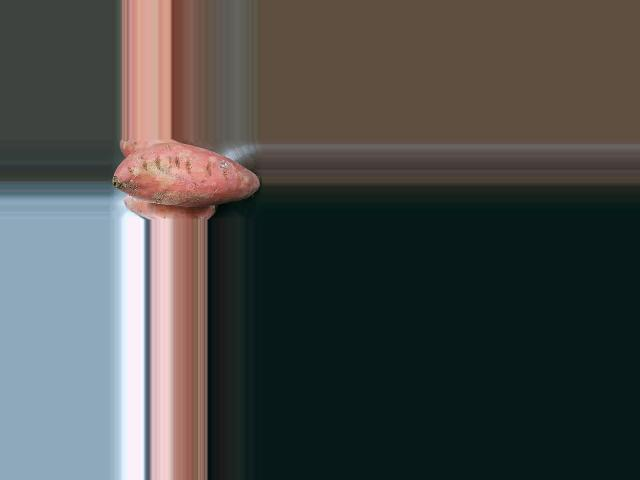sweet_potato: (112, 148, 258, 200)
